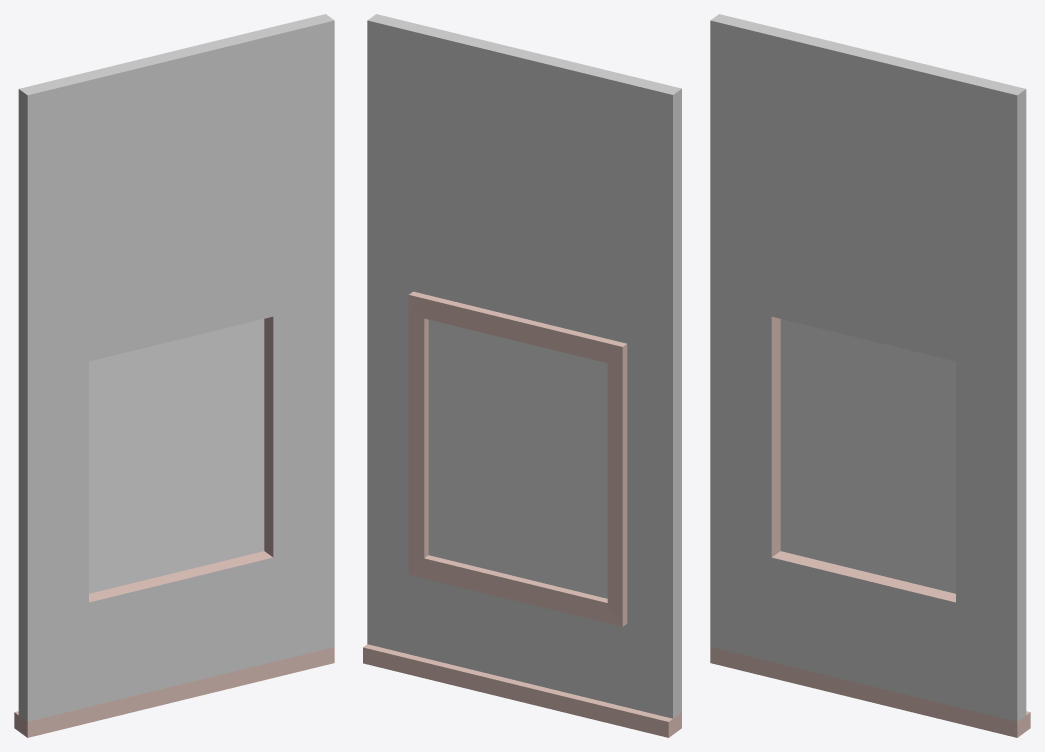
Rendered from Wall 3 Window.fbx.
3 renders of one model, left to right at view 1: azimuth 30°, elevation 25°; view 2: azimuth 150°, elevation 25°; view 3: azimuth 330°, elevation 25°, orthographic.
Parts seen in each view (by area): view 1: Cube.004; view 2: Cube.004; view 3: Cube.004.
Boxes of the visible parts, box(x1,y1,x2,y2) form: Cube.004: box(14, 14, 334, 737); Cube.004: box(363, 14, 681, 737); Cube.004: box(710, 14, 1030, 737).
Size of the model in its own units: 200 by 400 by 15.09.
